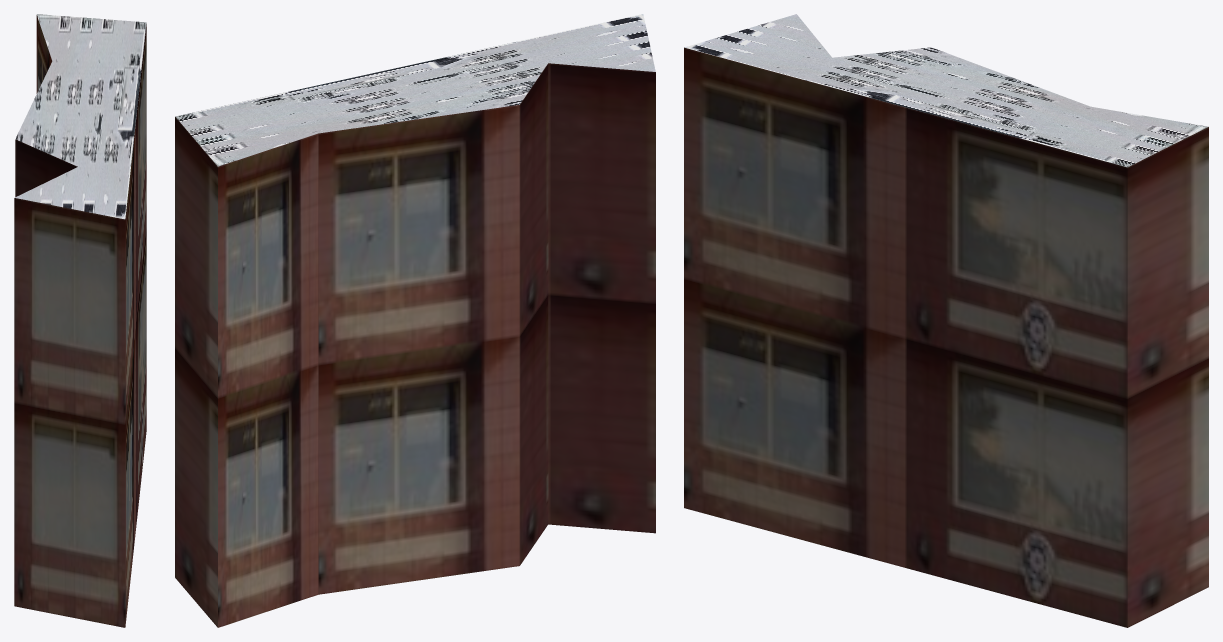
The model's file is ResTex__4247.fbx.
The picture shows the model from 3 angles, left to right: view 1: azimuth 30°, elevation 25°; view 2: azimuth 150°, elevation 25°; view 3: azimuth 270°, elevation 25°; orthographic projection. The views are drawn at different scales.
Parts seen in each view (by area): view 1: CityEngineMaterial_13_m, CityEngineMaterial_4_m; view 2: CityEngineMaterial_13_m, CityEngineMaterial_4_m; view 3: CityEngineMaterial_13_m, CityEngineMaterial_4_m.
Part boxes in pixels (<box>): CityEngineMaterial_13_m: <box>14,15,146,627</box>; CityEngineMaterial_4_m: <box>14,14,146,219</box>; CityEngineMaterial_13_m: <box>175,63,655,627</box>; CityEngineMaterial_4_m: <box>175,14,655,166</box>; CityEngineMaterial_13_m: <box>684,47,1208,627</box>; CityEngineMaterial_4_m: <box>684,14,1208,167</box>.
Size of the model in its own units: 4.29 by 6 by 6.2.
Materials: 2 (2 with a texture image).
